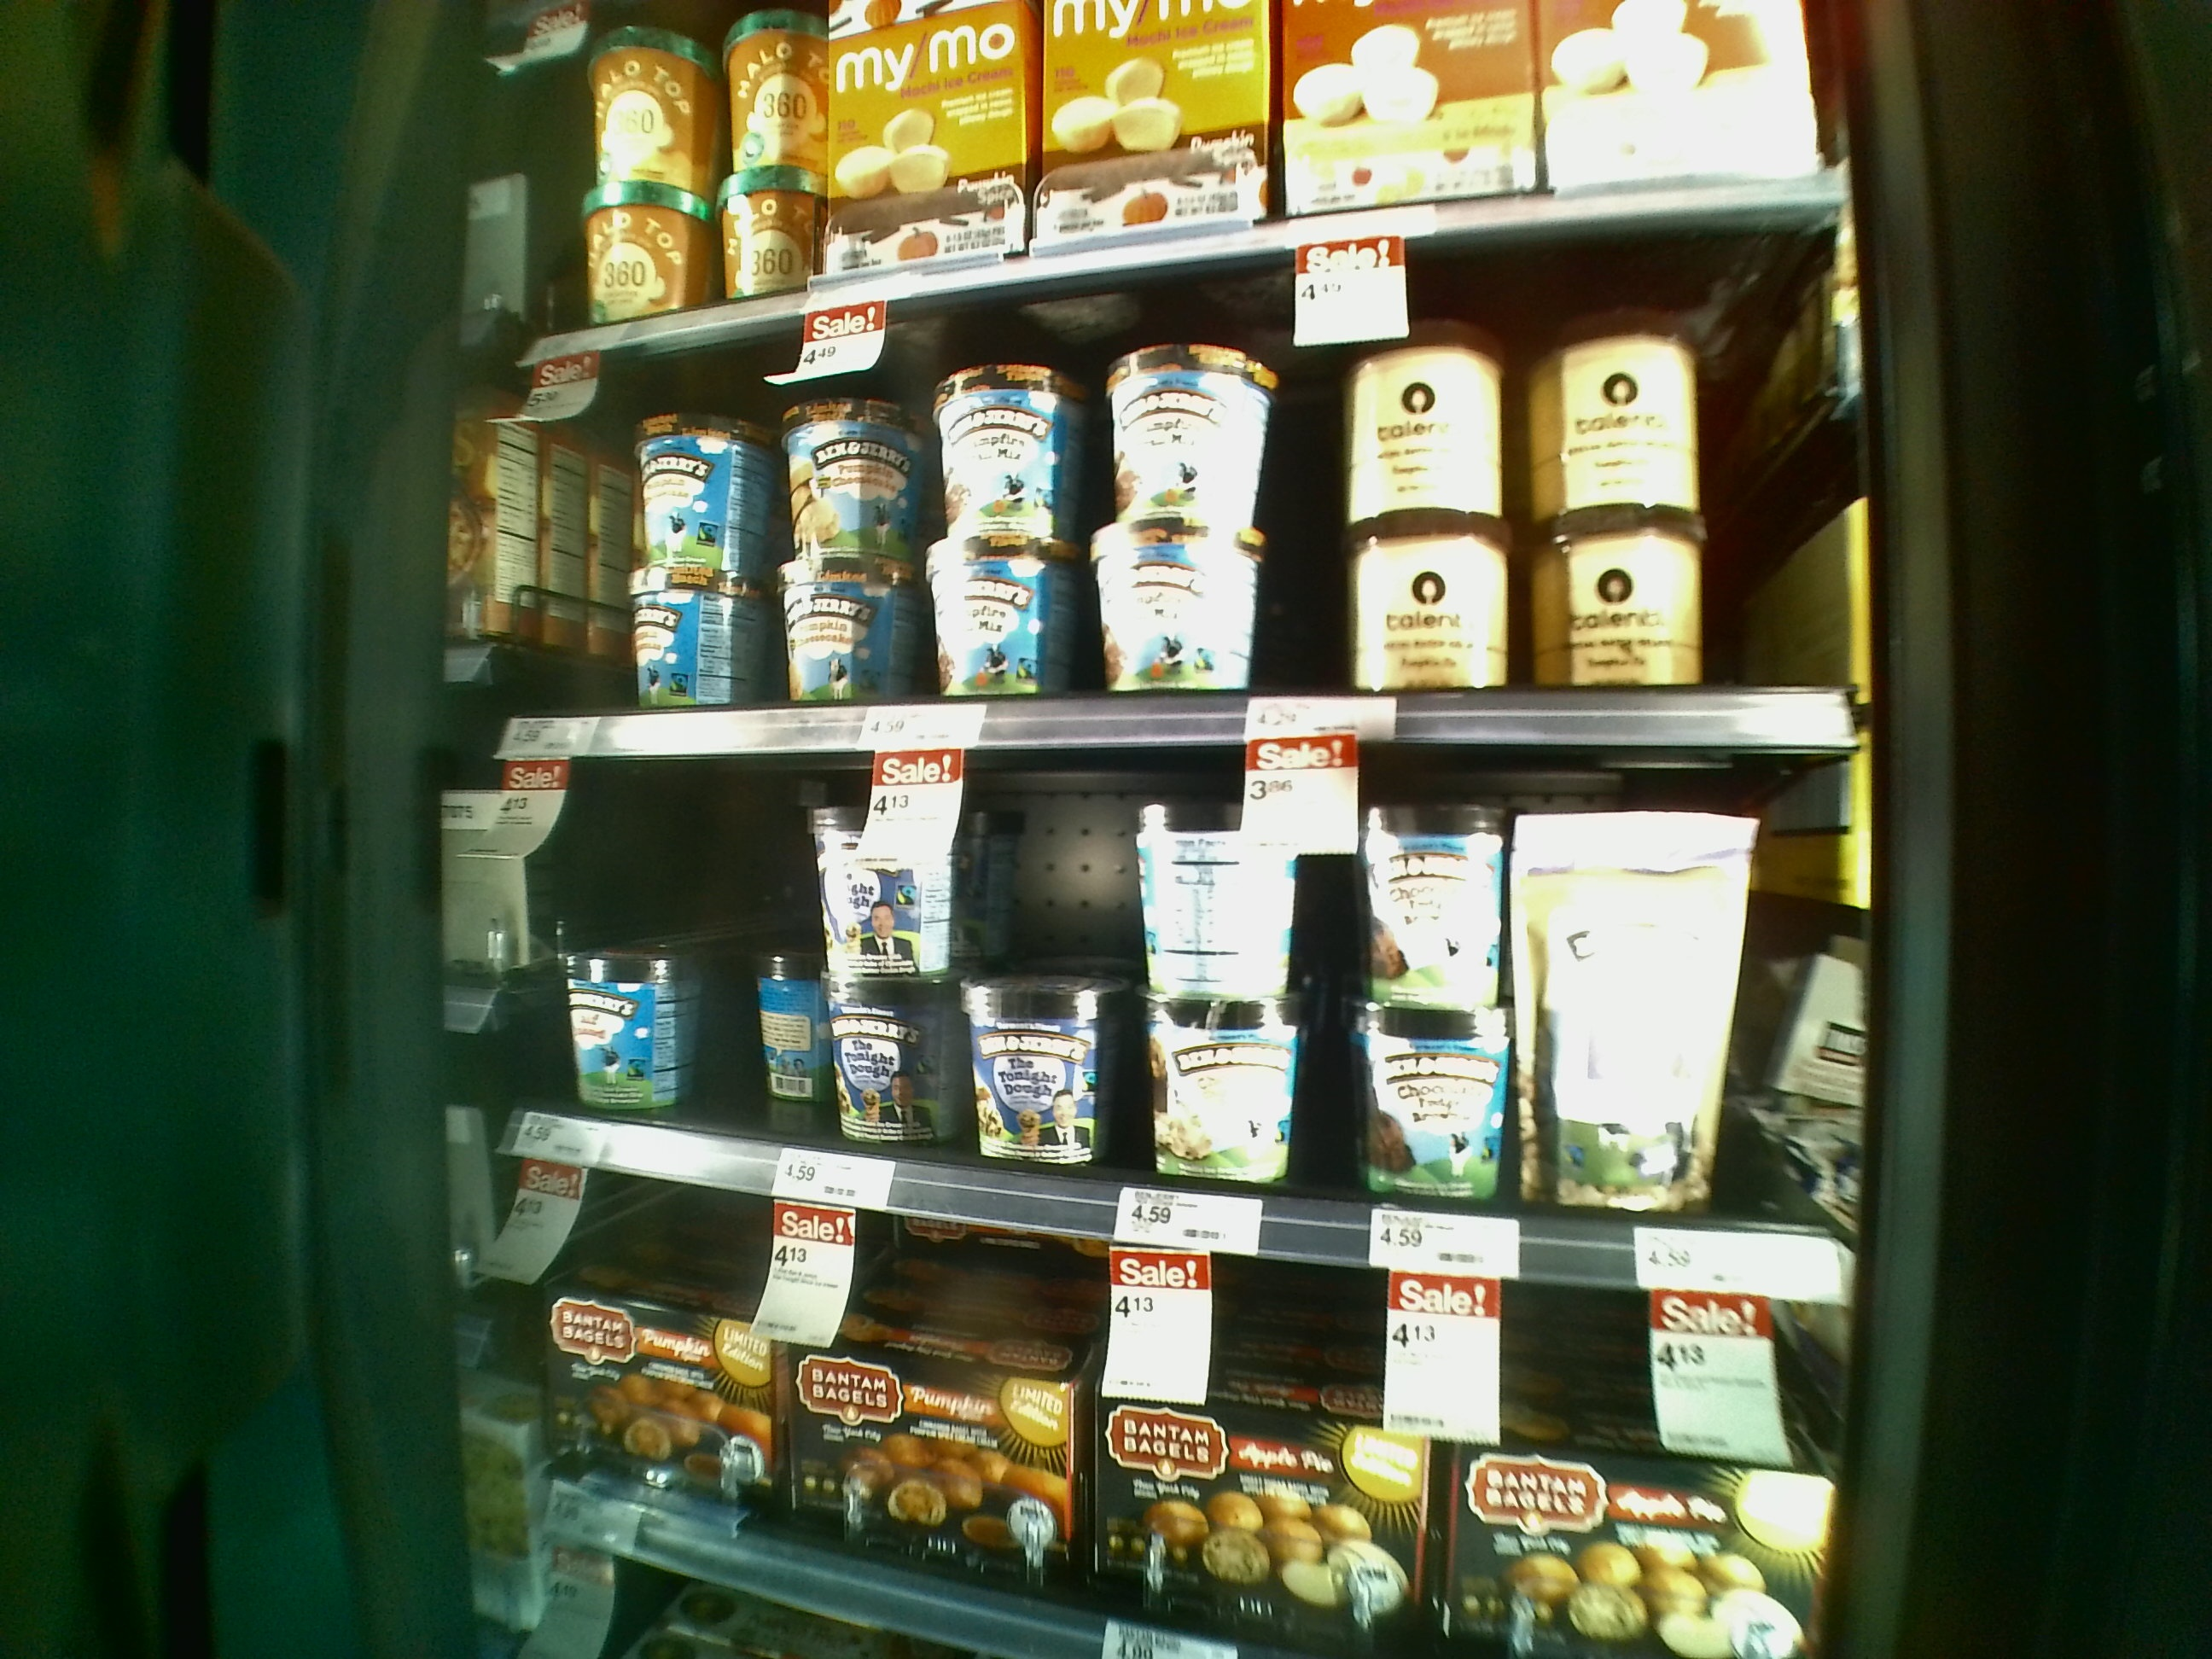shelf: (460, 730, 1858, 1290), (460, 314, 1850, 748)
